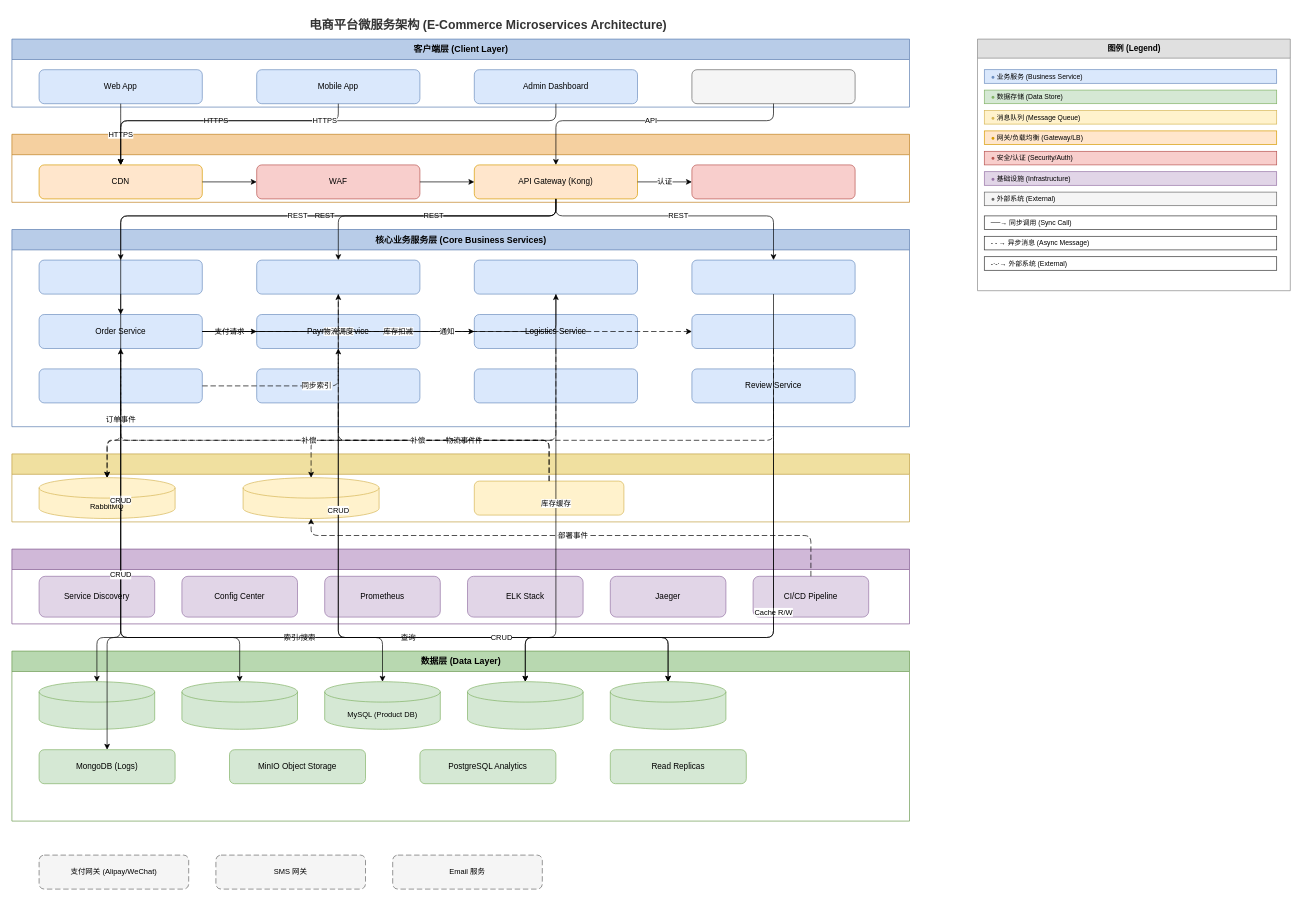
Some shapes in this 1302 by 901 pixel diagram are drawn without their labels. The shapes that lost their labels are listed below. From the top down, each one's box as (x1, y1, x2, y2) in pixels, then its label:
(691, 69, 855, 104): 第三方合作伙伴
(11, 134, 910, 202): 网关安全层 (Gateway & Security)
(691, 164, 855, 199): Auth Service
(38, 259, 202, 294): User Service
(256, 259, 420, 294): Product Service
(474, 259, 638, 294): Inventory Service
(691, 259, 855, 294): Cart Service
(691, 314, 855, 348): Notification Service
(38, 368, 202, 403): Search Service
(256, 368, 420, 403): Recommendation Service
(474, 368, 638, 403): Customer Service
(242, 477, 379, 518): Kafka
(11, 453, 910, 522): 消息集成层 (Message & Integration)
(474, 480, 624, 515): Saga Orchestrator
(11, 548, 910, 624): 基础设施层 (Infrastructure)
(38, 681, 155, 729): MySQL (User DB)
(181, 681, 298, 729): MySQL (Order DB)
(467, 681, 583, 729): Redis Cluster
(610, 681, 726, 729): Elasticsearch
